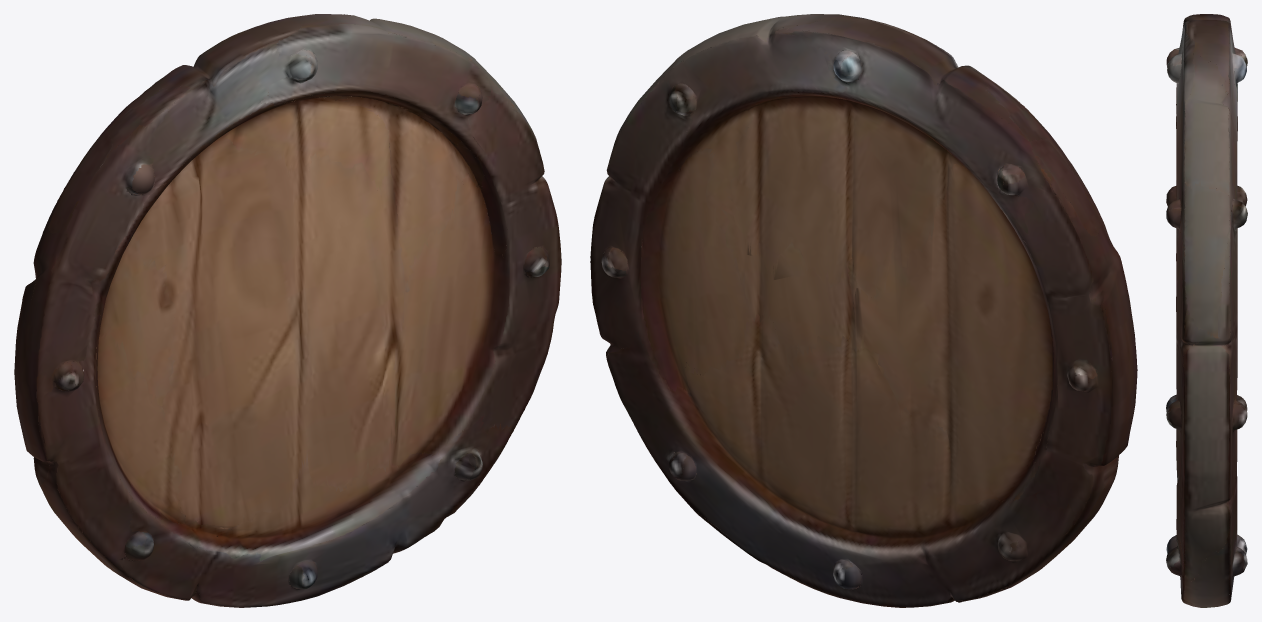
File: escudo_madeira.glb
3 views of the same model, side by side, from view 1: azimuth 30°, elevation 25°; view 2: azimuth 150°, elevation 25°; view 3: azimuth 270°, elevation 25° (orthographic). The views are drawn at different scales.
Parts seen in each view (by area): view 1: escudo_madeira; view 2: escudo_madeira; view 3: escudo_madeira.
Boxes of the visible parts, box(x1,y1,x2,y2) form: escudo_madeira: box(14, 14, 561, 607); escudo_madeira: box(590, 14, 1137, 607); escudo_madeira: box(1166, 14, 1247, 607).
Size of the model in its own units: 0.2349 by 0.2415 by 0.0331.
1 material, 1 textured.
